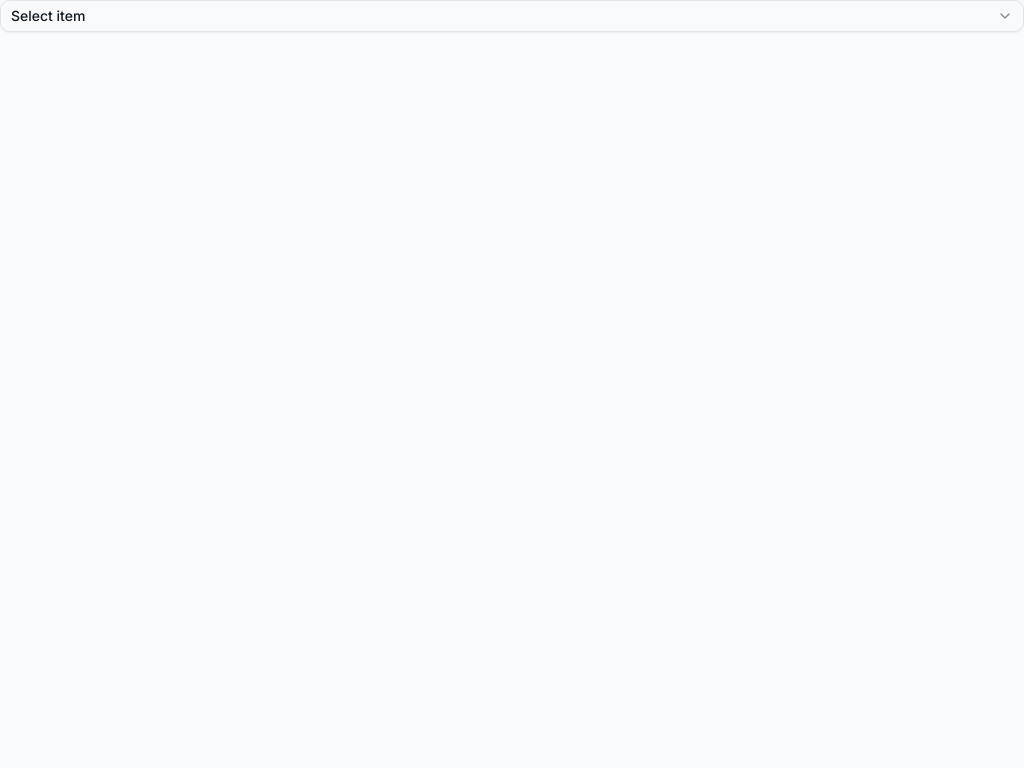
SearchableSelect Component › shows empty state when no items match
This screenshot has width=1024, height=768.
Step 1. Click the dropdown → (48, 16), box [0, 0, 1023, 32]
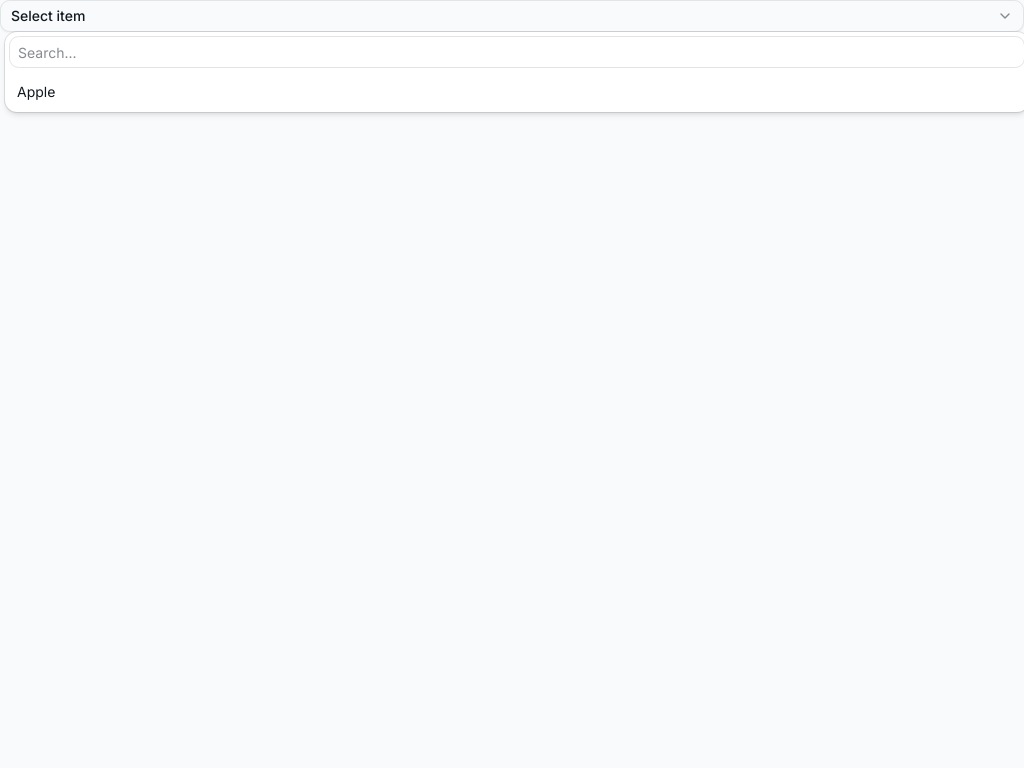
Expected: the option "Apple" is shown, [17, 83, 55, 100]
Step 2. Type "xyz" into the dropdown with placeholder "Search..." → (516, 52), box [9, 36, 1023, 68]
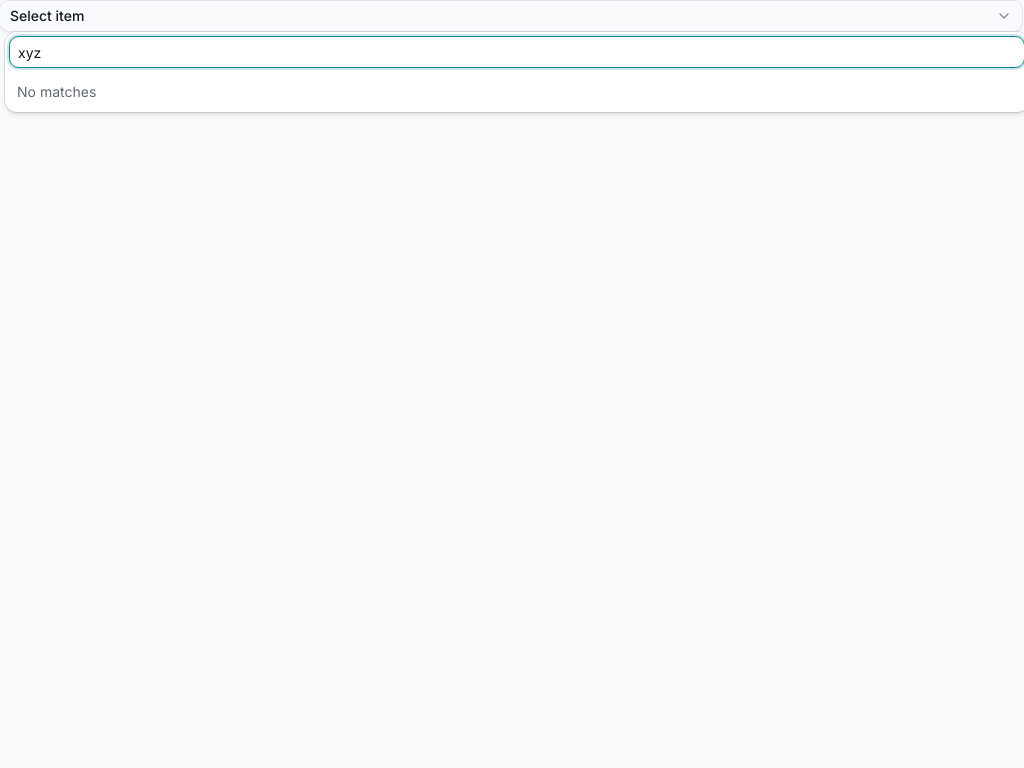
Expected: the text "No matches" is shown, [17, 83, 96, 100]
